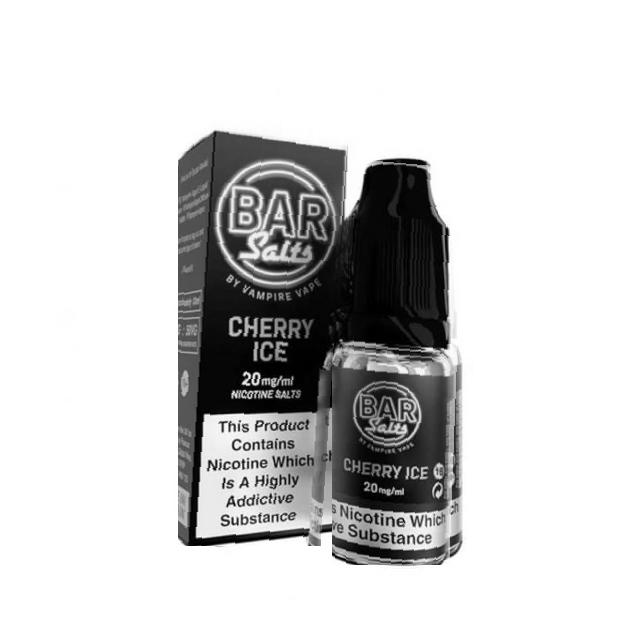Vapes: (178, 128, 348, 546), (332, 157, 464, 565)
